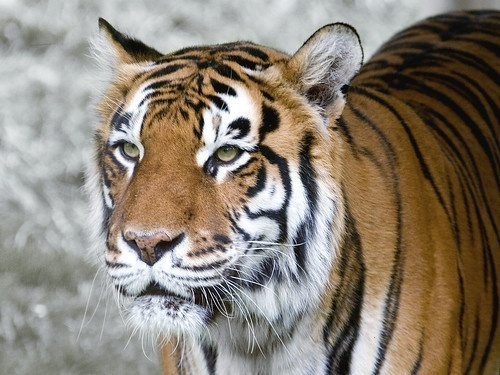tigre: (83, 7, 500, 374)
